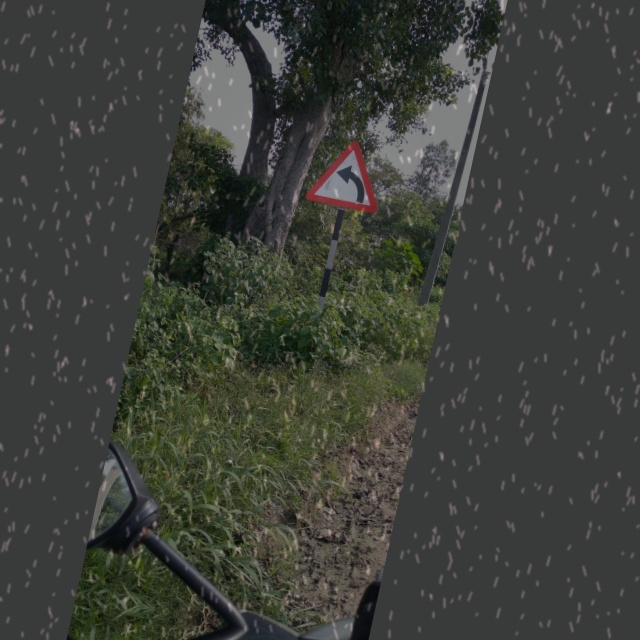Left_Hand_Curve: (299, 127, 392, 219)
